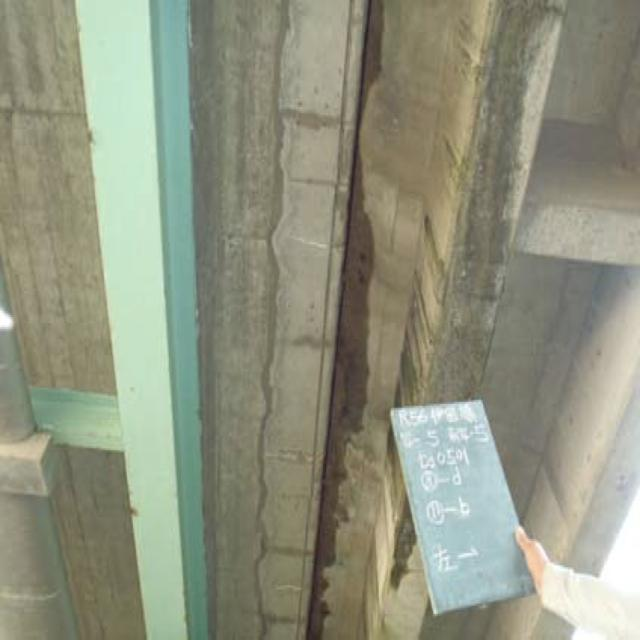leakage: (298, 8, 401, 640)
